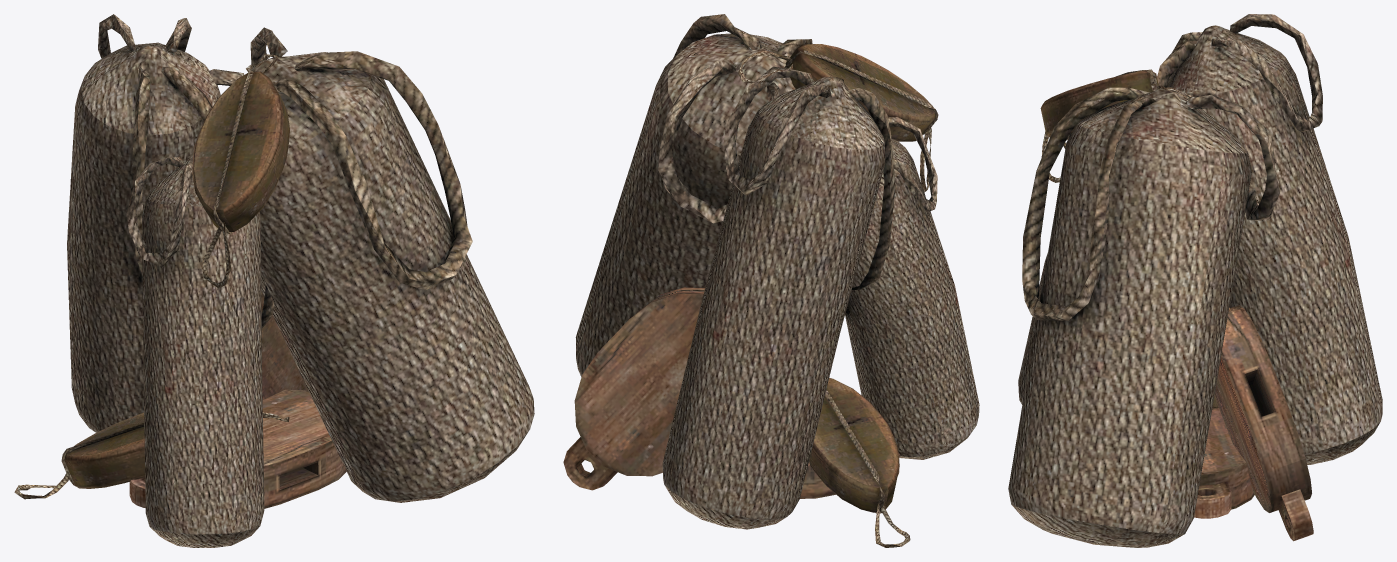
Rendered from ship_rigging_pile_a.FBX.
3 views of the same model, side by side, from view 1: azimuth 30°, elevation 25°; view 2: azimuth 150°, elevation 25°; view 3: azimuth 270°, elevation 25° (orthographic). The views are drawn at different scales.
Visible parts, largest first — view 1: ship_rigging_pile_a; view 2: ship_rigging_pile_a; view 3: ship_rigging_pile_a.
Boxes of the visible parts, box(x1,y1,x2,y2) form: ship_rigging_pile_a: box(14, 14, 534, 547); ship_rigging_pile_a: box(563, 14, 979, 547); ship_rigging_pile_a: box(1008, 14, 1382, 547).
Size of the model in its own units: 47.81 by 39.53 by 50.31.
